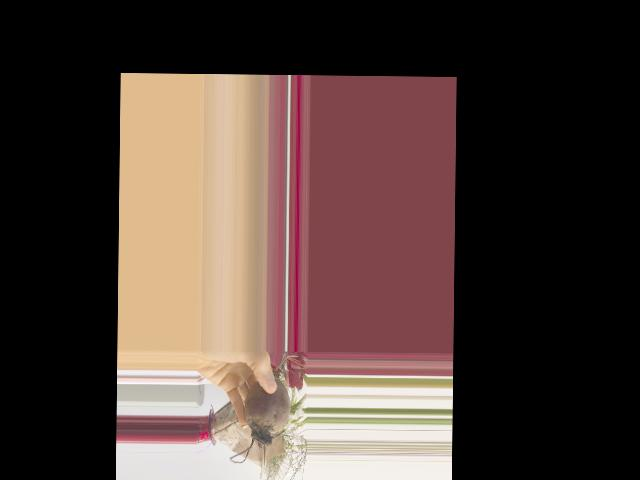beet: (229, 354, 297, 464)
